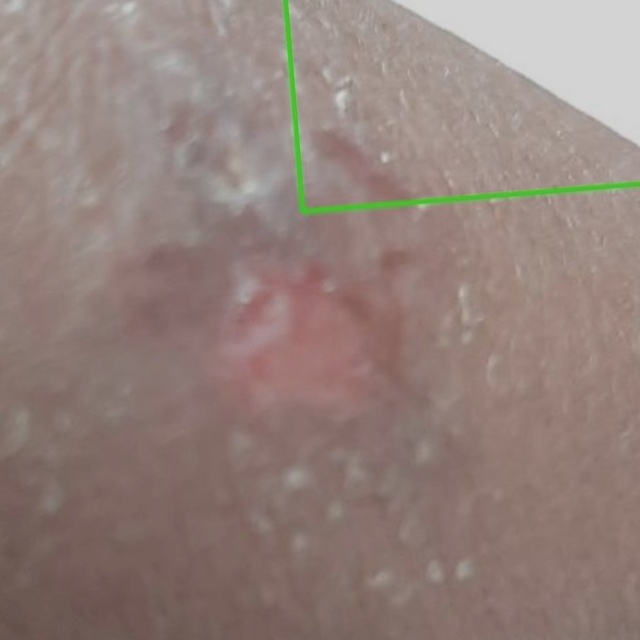Eczema: (285, 0, 639, 211)
